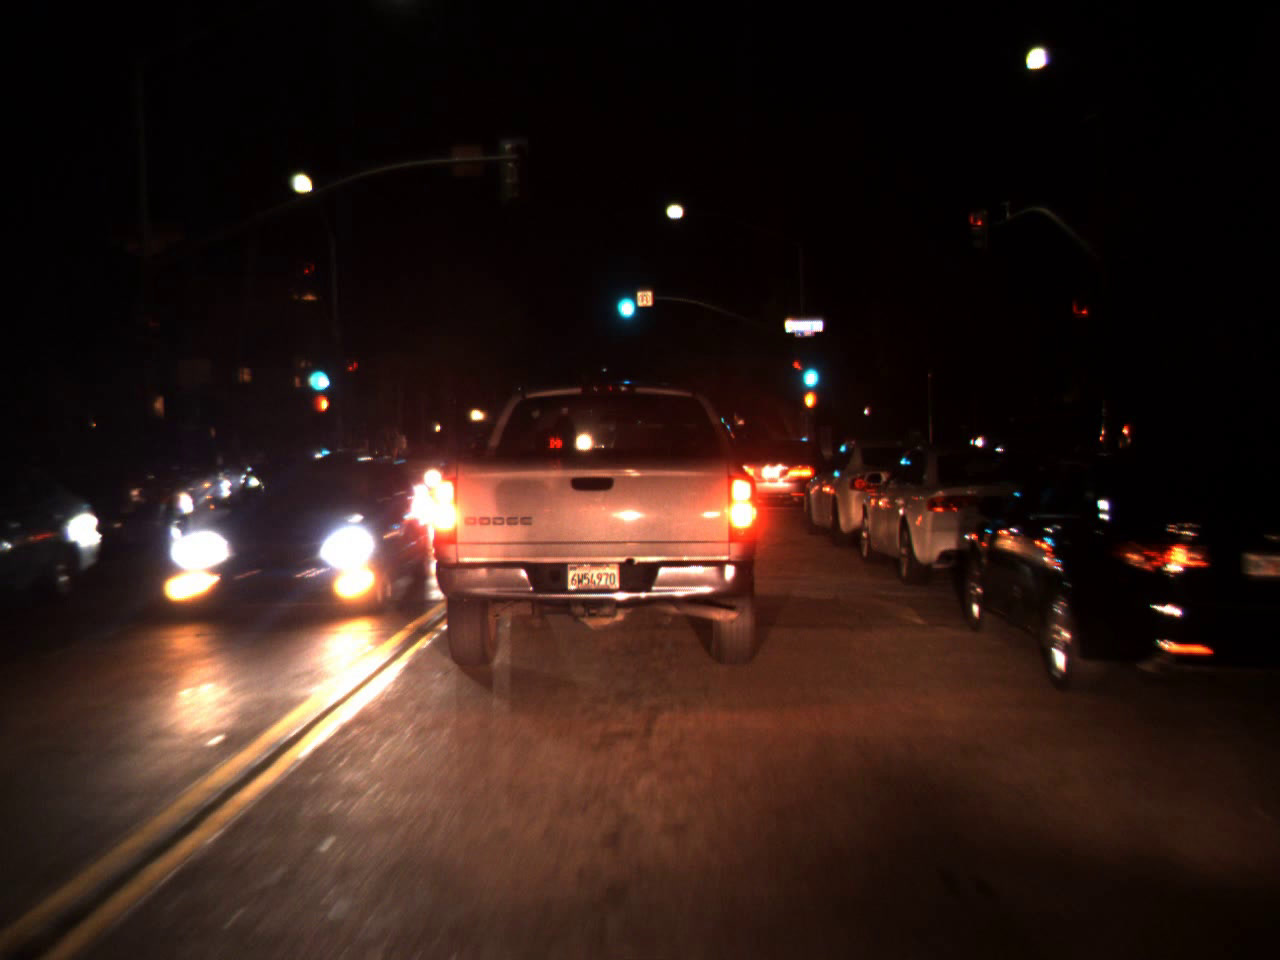go: (610, 272, 638, 326), (797, 346, 822, 394), (305, 348, 330, 396)
